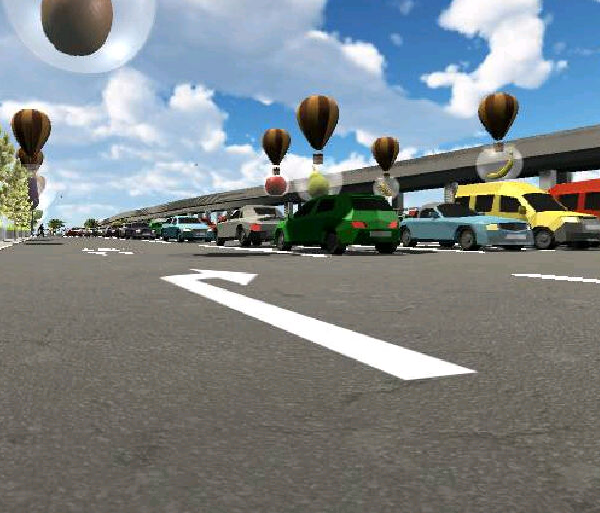ground_right: (154, 267, 269, 294)
